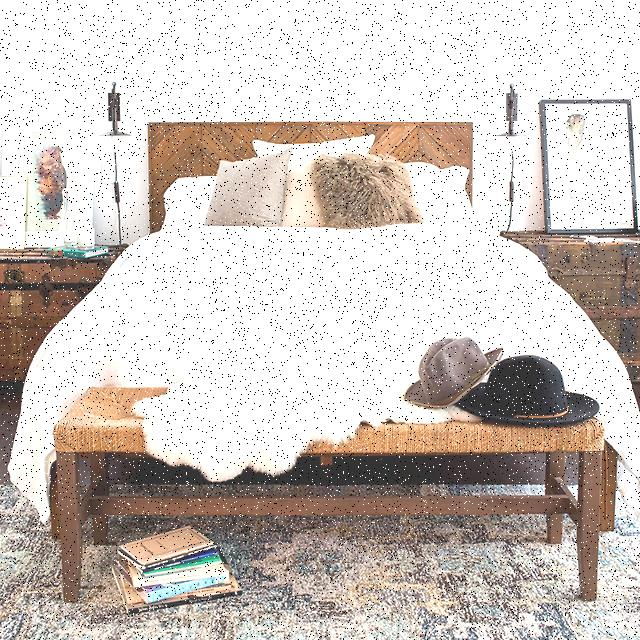bed: (33, 144, 620, 402)
